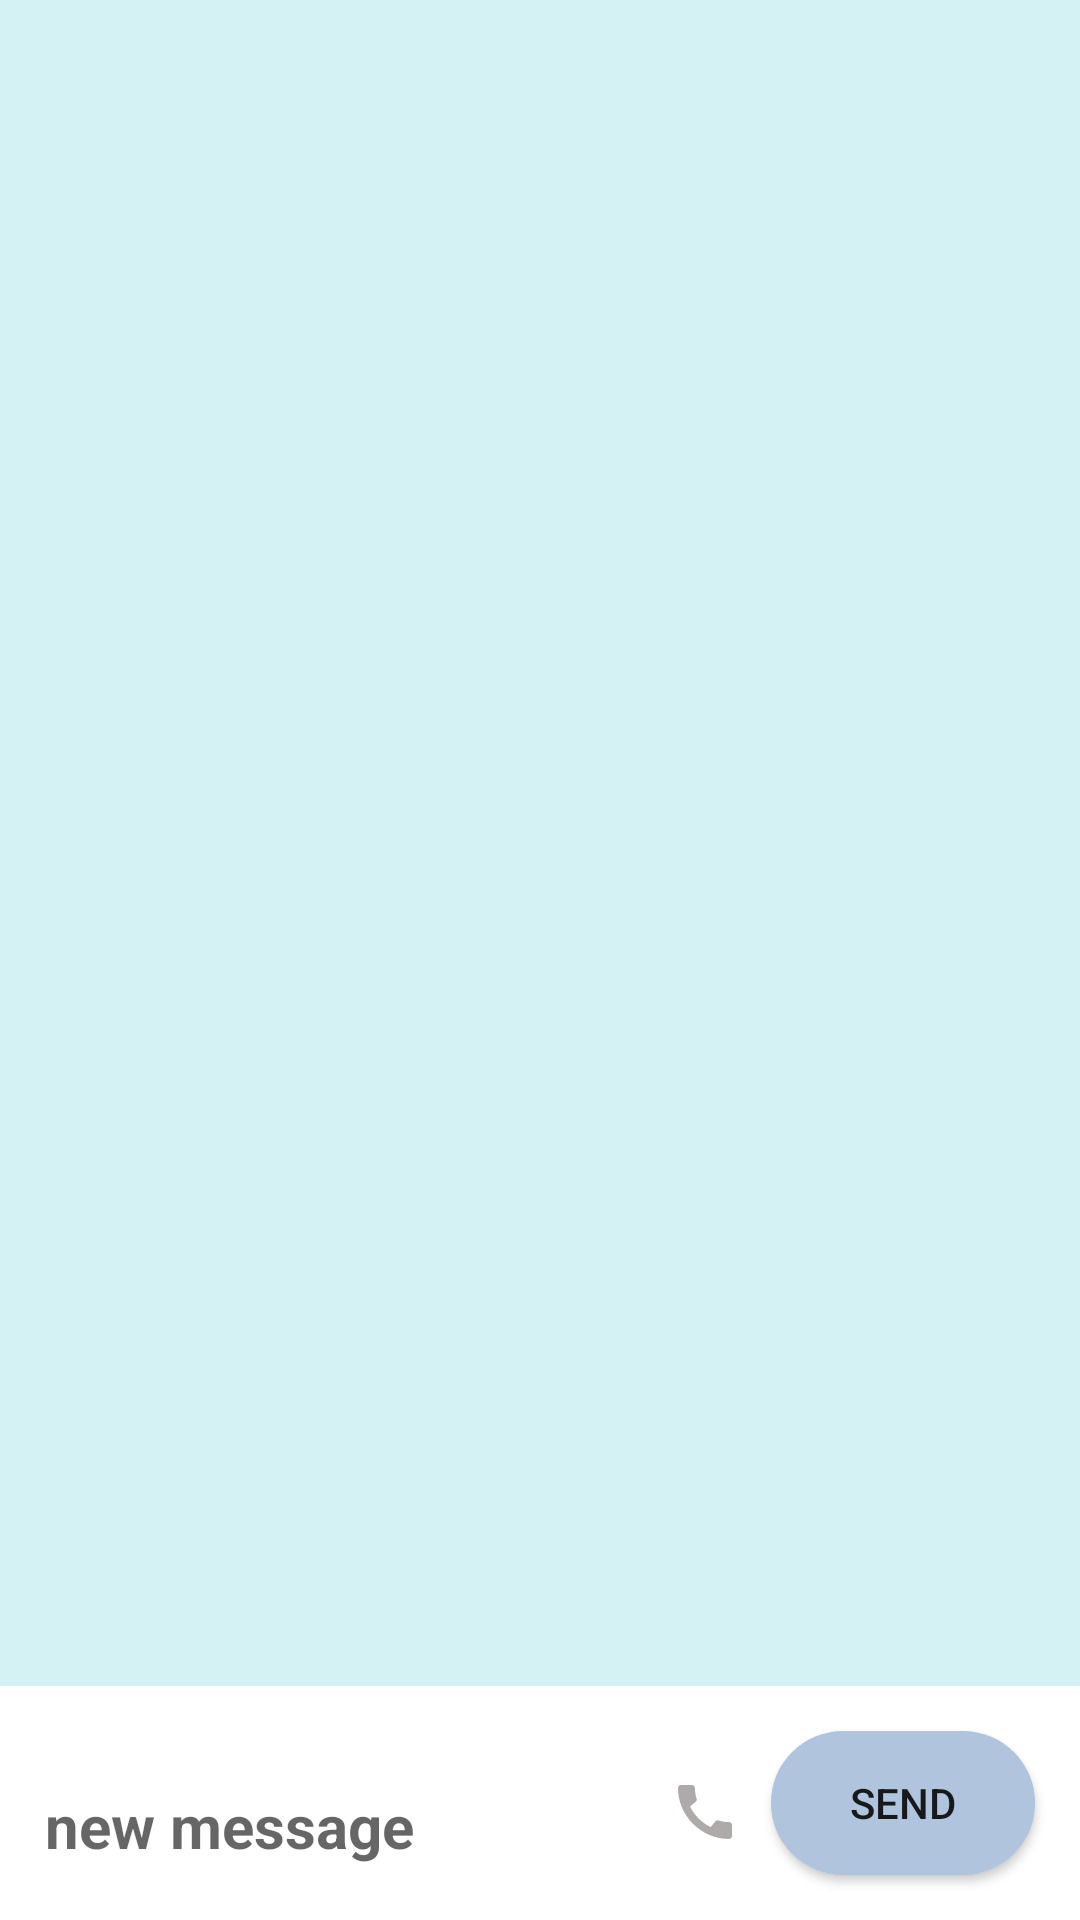

Point at icon controls on the screen. Image size 1080px x 1920px, points as point (x, y).
call: point (705, 1812)
